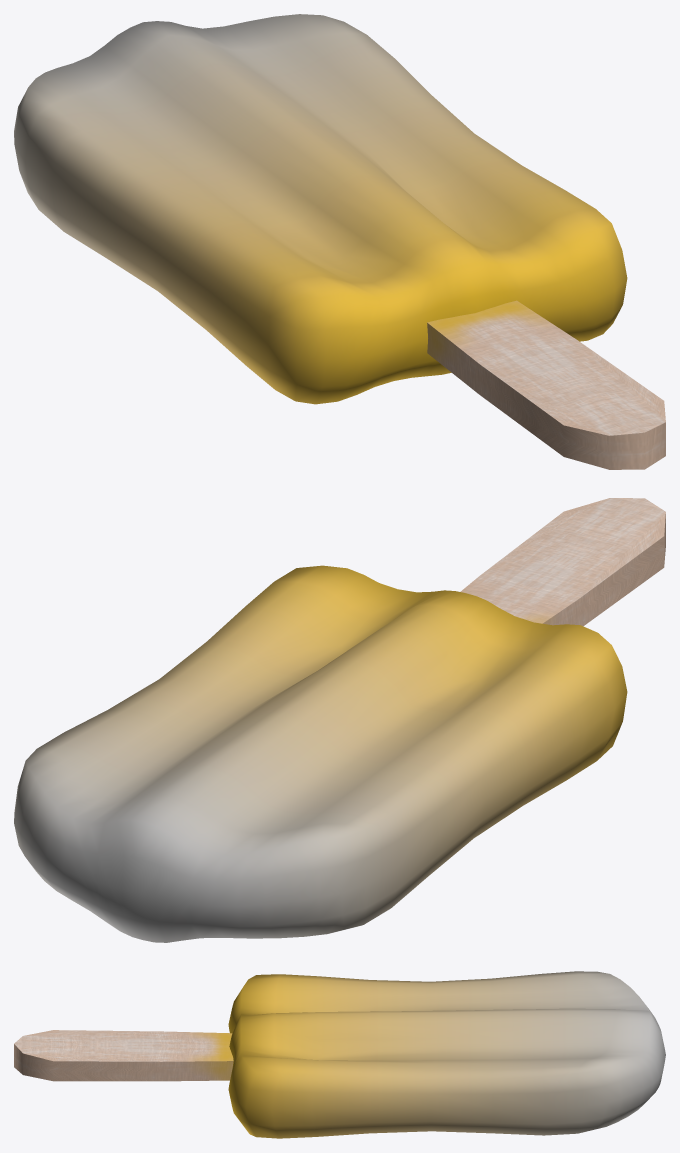
File: Popsicle.fbx
The picture shows the model from 3 angles, top to bottom: view 1: azimuth 30°, elevation 25°; view 2: azimuth 150°, elevation 25°; view 3: azimuth 270°, elevation 25°; orthographic projection. The views are drawn at different scales.
Parts seen in each view (by area): view 1: Popsicle; view 2: Popsicle; view 3: Popsicle.
Boxes of the visible parts, <box> form: Popsicle: <box>14,14,665,469</box>; Popsicle: <box>14,498,665,942</box>; Popsicle: <box>14,971,665,1138</box>.
Bounding box in the file's own units: 1.17 × 0.4092 × 2.99.
Materials: 1 (1 with a texture image).
